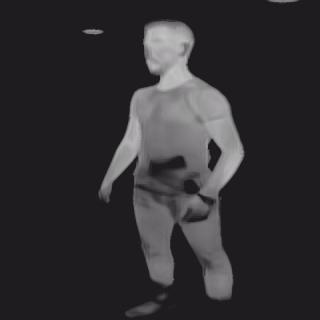Gun: (148, 154, 186, 178)
